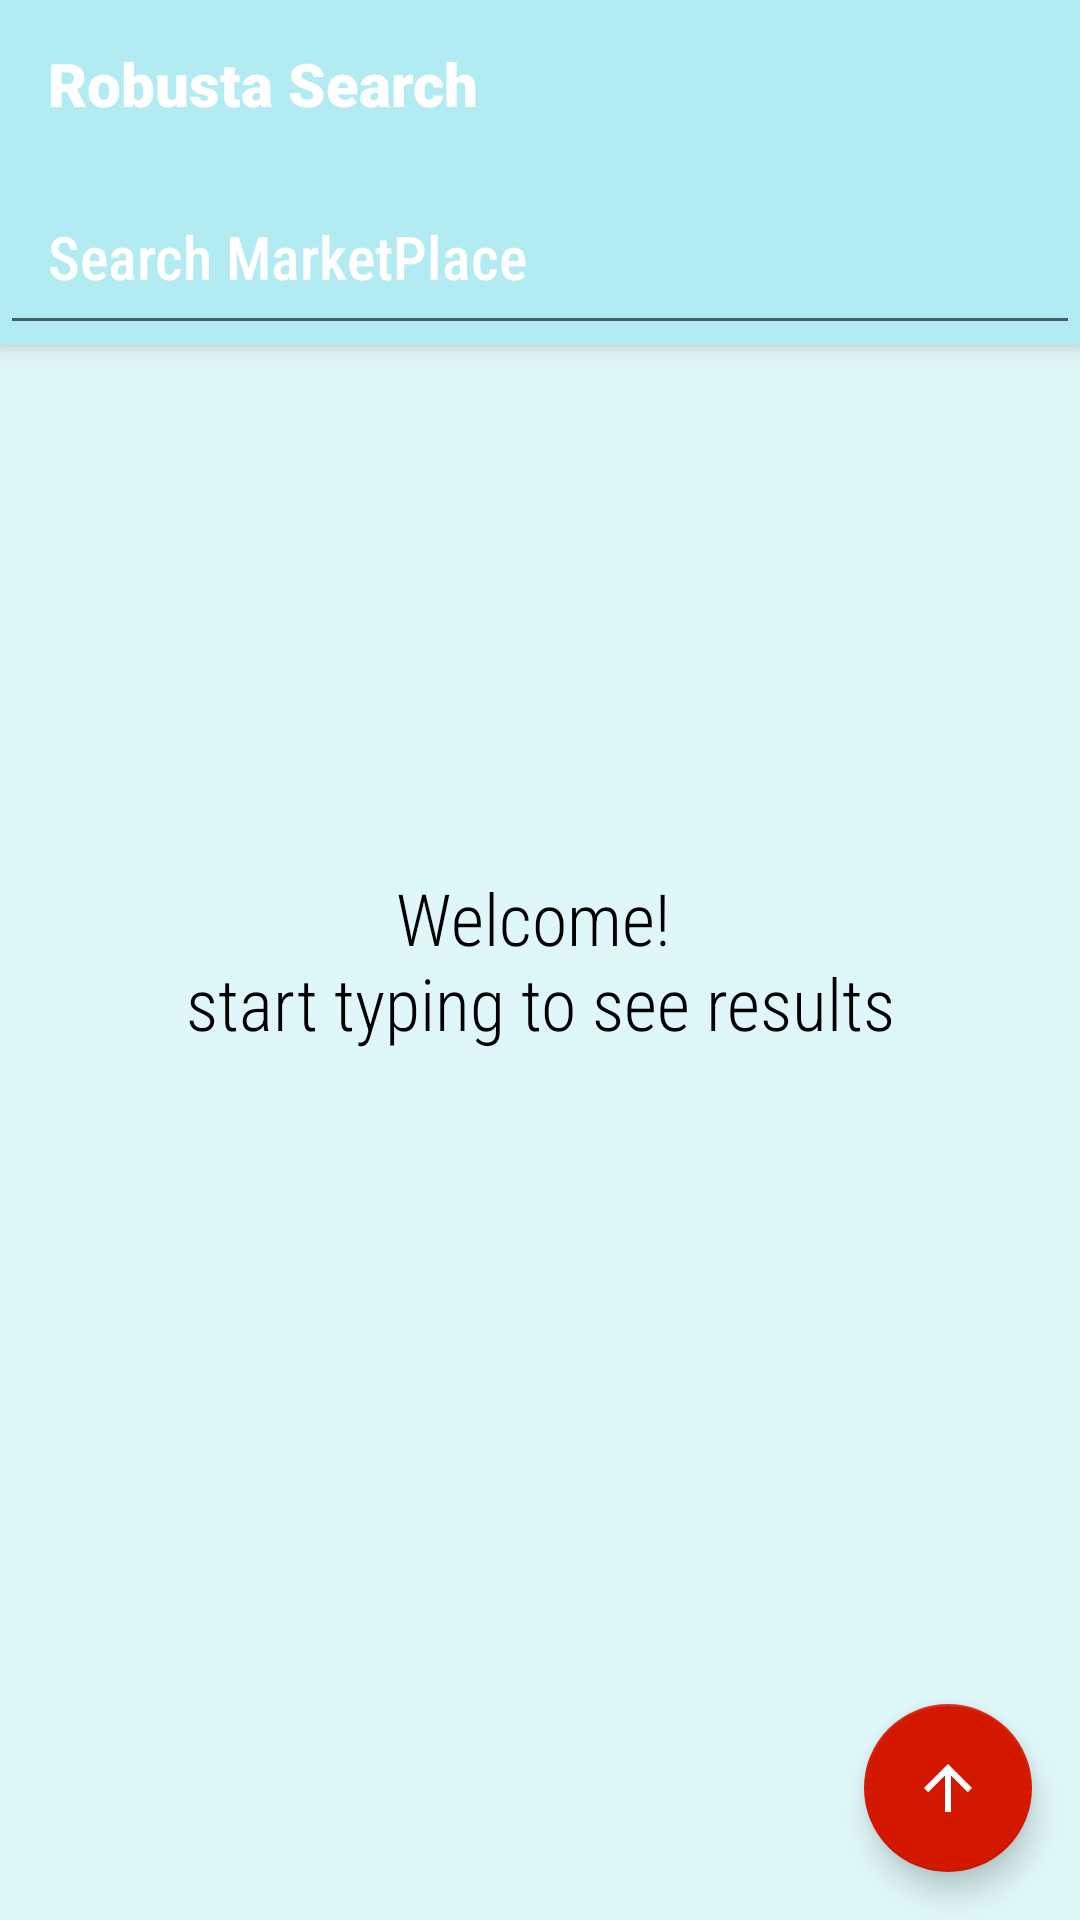

Point at icon controls on the screen. Image size 1080w x 1920h, points as point (x, y).
arrow upward: point (948, 1788)
